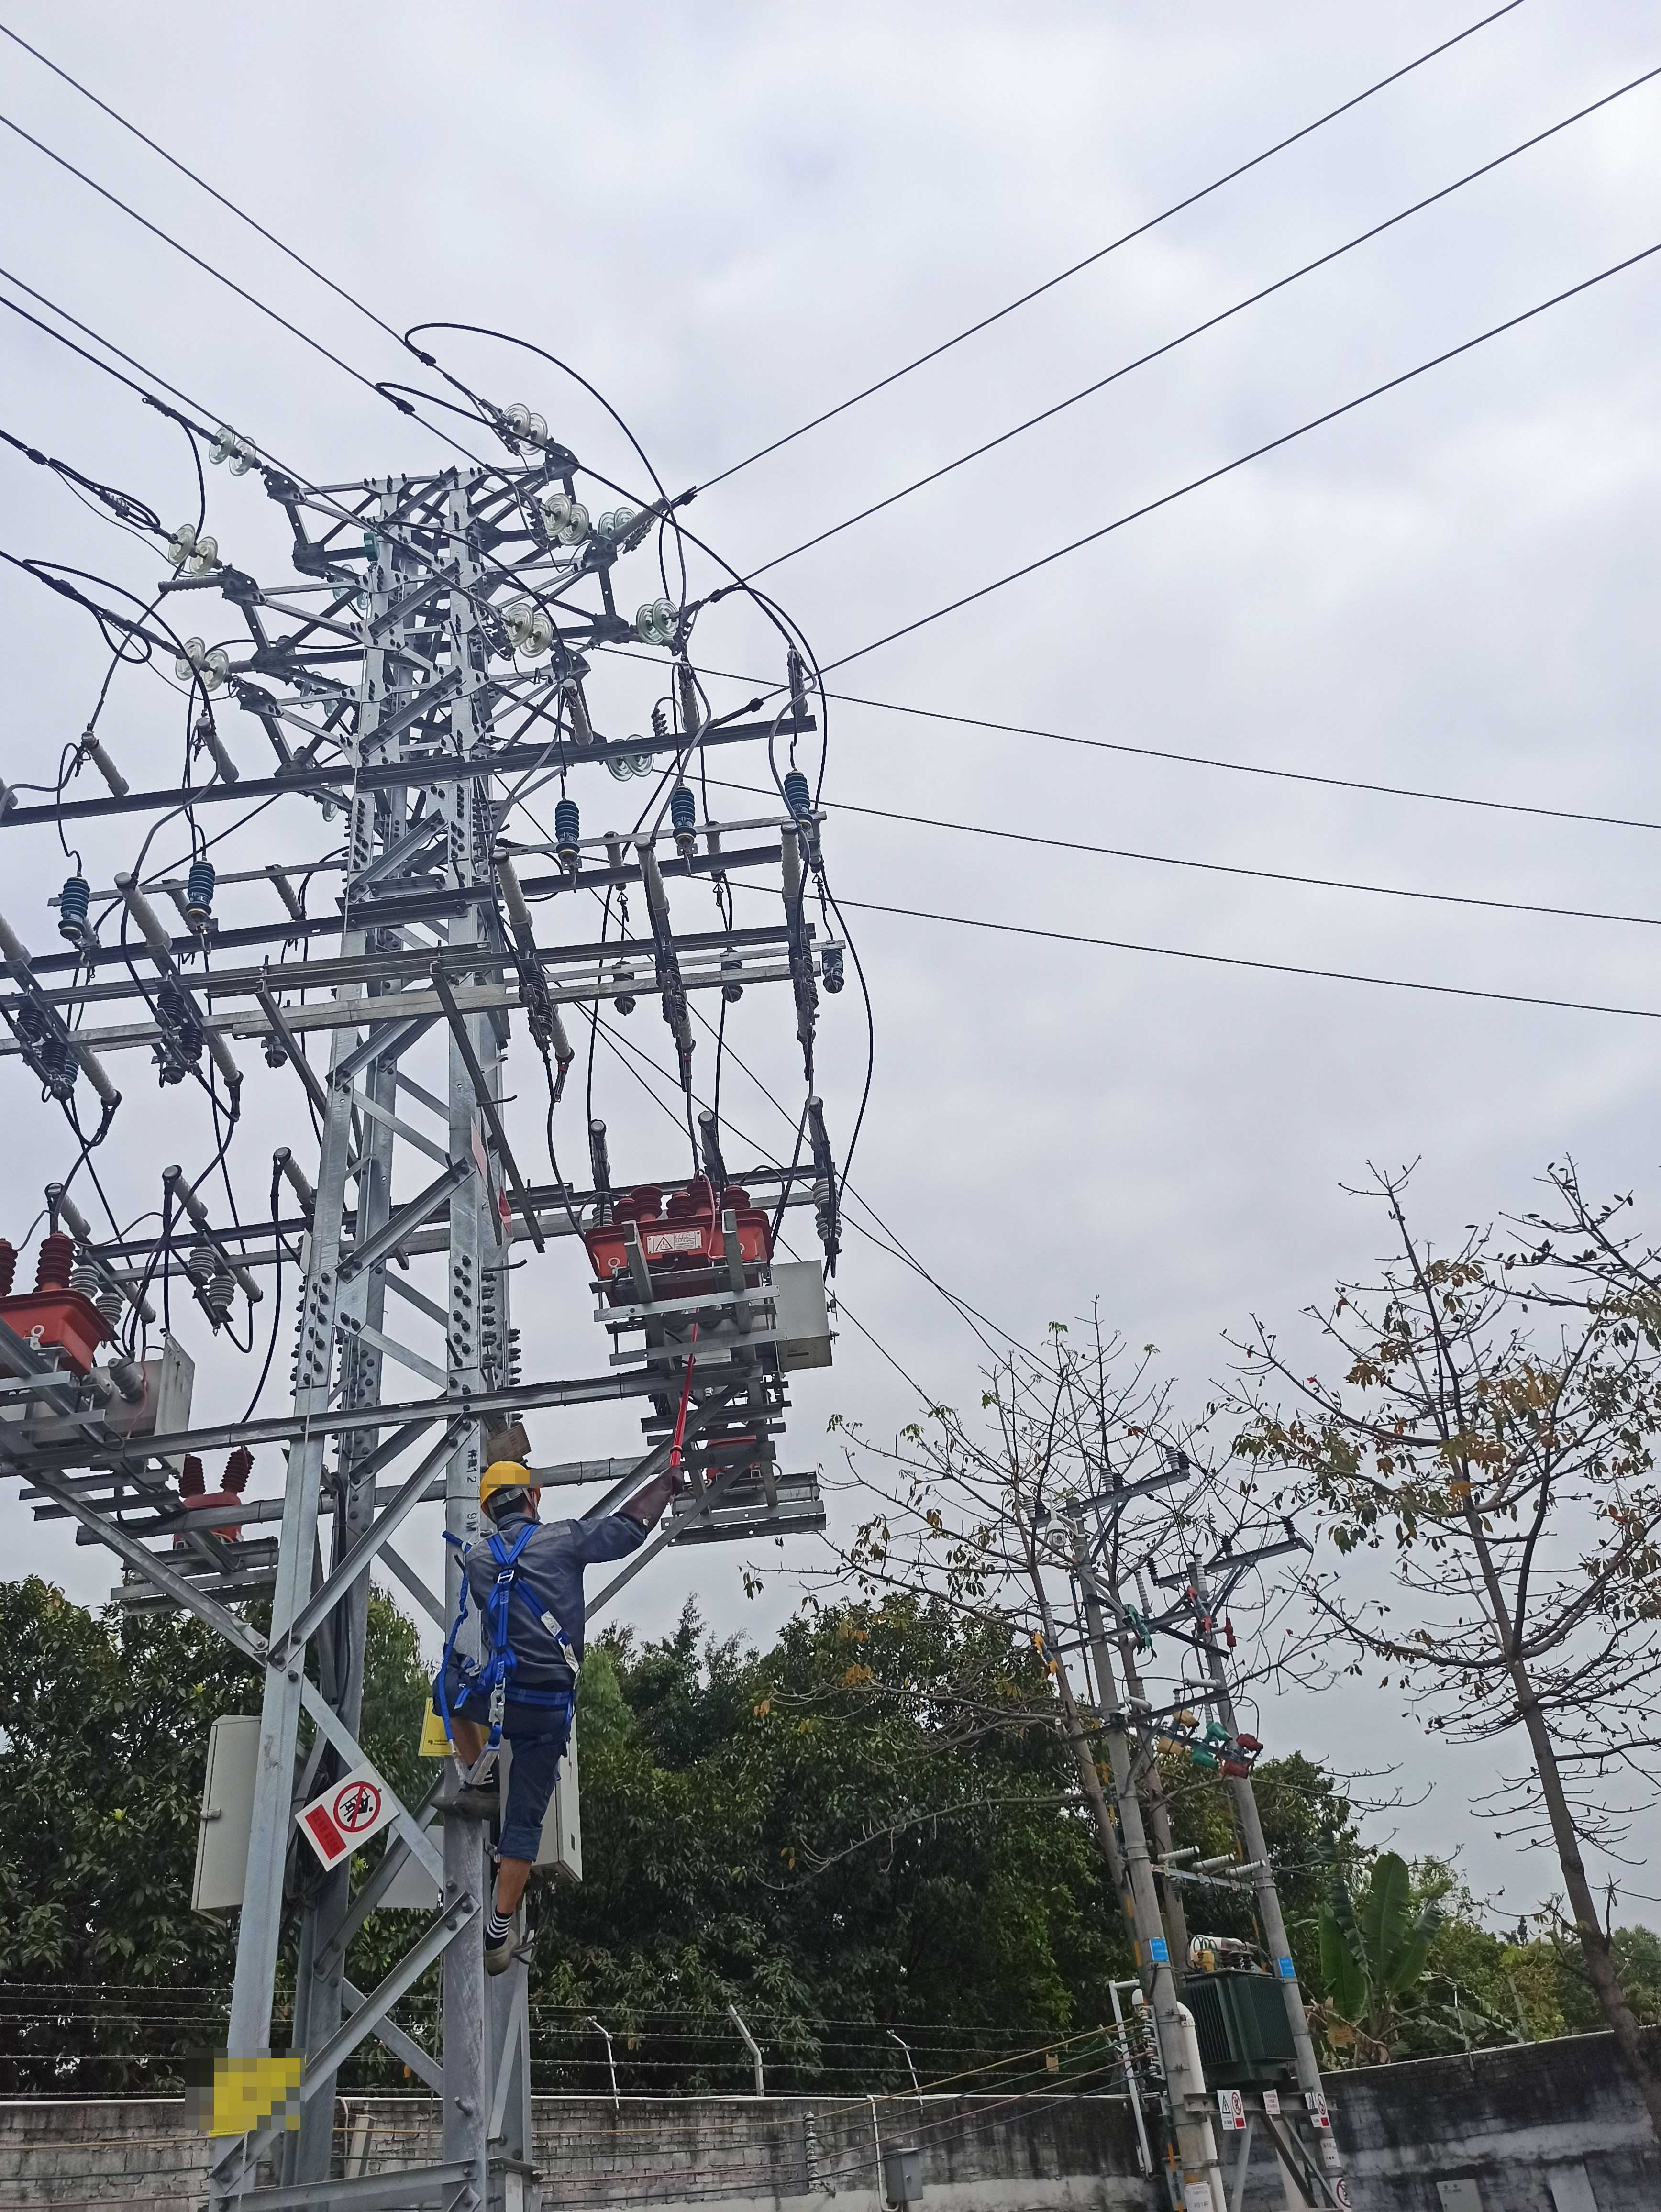downsuit: (445, 1671, 574, 1854)
upsuit: (468, 1530, 590, 1662)
wrongbottom: (487, 1819, 548, 1924), (436, 1697, 487, 1769)
